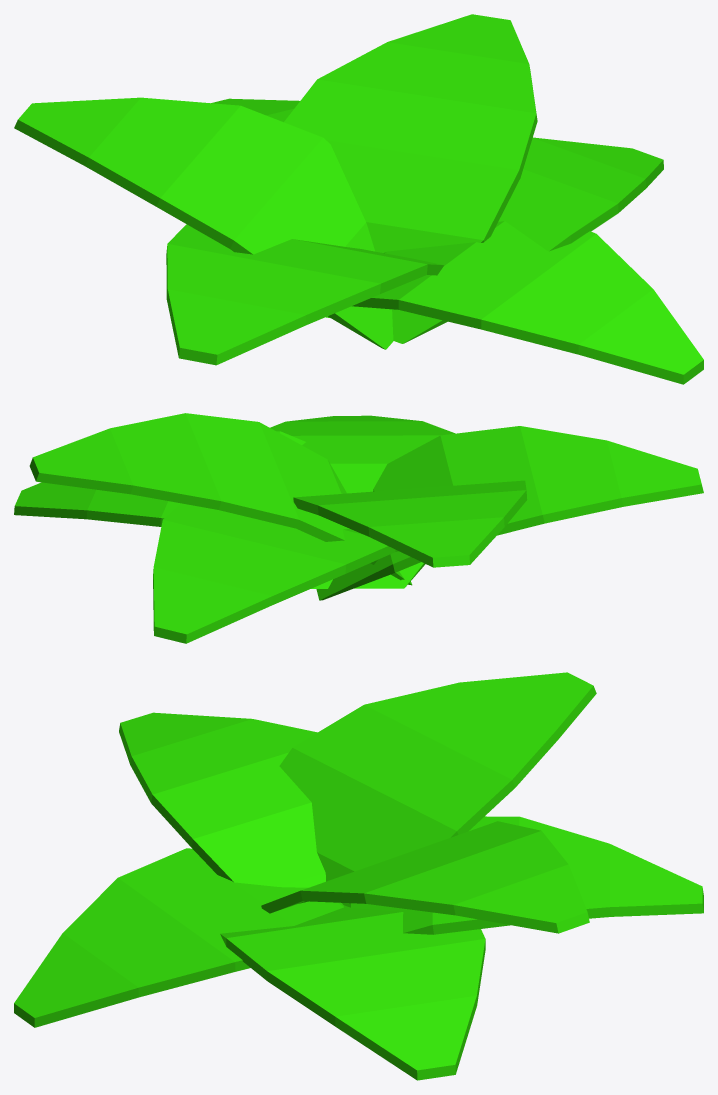
Rendered from fern.glb.
The picture shows the model from 3 angles, top to bottom: view 1: azimuth 30°, elevation 25°; view 2: azimuth 150°, elevation 25°; view 3: azimuth 270°, elevation 25°; orthographic projection. The views are drawn at different scales.
Visible parts, largest first — view 1: Plane.003, Plane.004, Plane.002, Plane.001, Plane.005, Plane; view 2: Plane.003, Plane.001, Plane, Plane.004, Plane.002, Plane.005; view 3: Plane.004, Plane.005, Plane.002, Plane.001, Plane.003, Plane.
Boxes of the visible parts, x1,y1,x2,y2 form: Plane.003: [284, 14, 537, 318]; Plane.004: [14, 97, 393, 349]; Plane.002: [352, 221, 703, 384]; Plane.001: [166, 224, 443, 365]; Plane.005: [392, 137, 663, 343]; Plane: [211, 98, 299, 122]; Plane.003: [29, 413, 412, 585]; Plane.001: [316, 426, 703, 600]; Plane: [153, 503, 398, 643]; Plane.004: [293, 480, 527, 567]; Plane.002: [270, 415, 455, 588]; Plane.005: [14, 431, 305, 526]; Plane.004: [279, 672, 596, 881]; Plane.005: [220, 905, 485, 1080]; Plane.002: [14, 848, 343, 1027]; Plane.001: [119, 712, 325, 887]; Plane.003: [261, 821, 589, 933]; Plane: [342, 816, 703, 934].
Size of the model in its own units: 3.29 by 0.8068 by 3.2.
